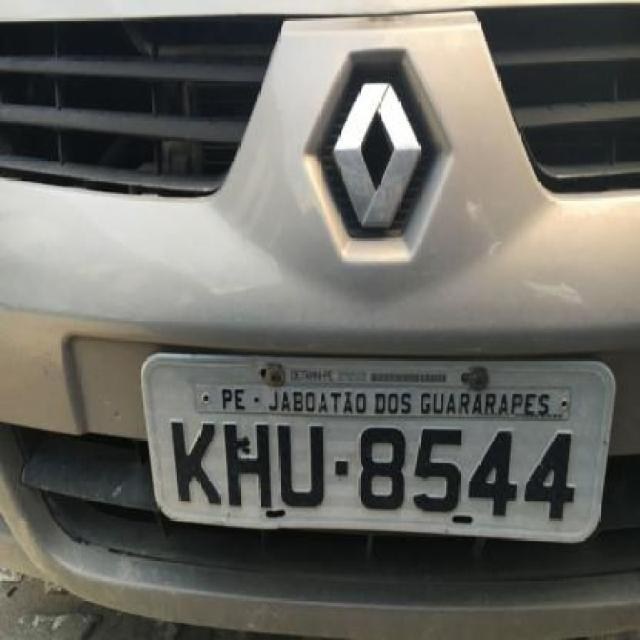old_plate: (134, 348, 624, 552)
